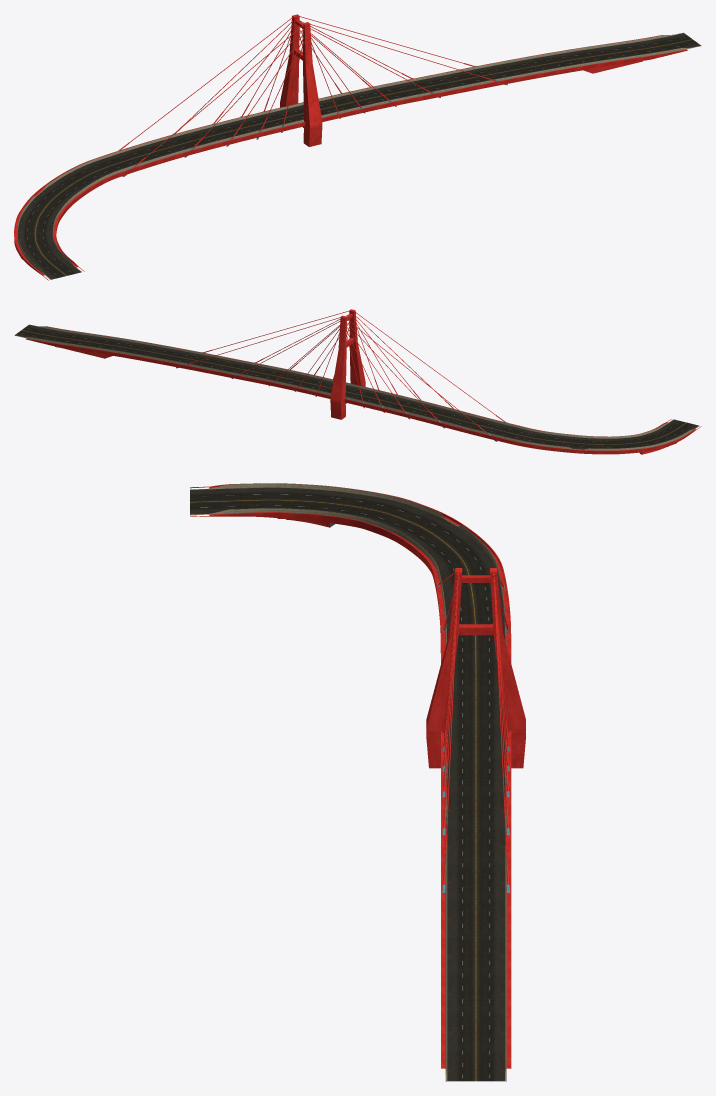
File: bridge_road_lowpoly.glb
3 renders of one model, top to bottom at view 1: azimuth 30°, elevation 25°; view 2: azimuth 150°, elevation 25°; view 3: azimuth 270°, elevation 25°, orthographic. The views are drawn at different scales.
Parts seen in each view (by area): view 1: Bridge, Road; view 2: Bridge, Road; view 3: Road, Bridge.
Boxes of the visible parts, x1,y1,x2,y2 form: Bridge: (14, 14, 701, 280); Road: (17, 33, 700, 279); Bridge: (14, 309, 701, 454); Road: (15, 325, 698, 449); Road: (190, 487, 504, 1081); Bridge: (190, 483, 525, 1081).
Size of the model in its own units: 389 by 58.94 by 92.96.
Materials: 1 (1 with a texture image).
